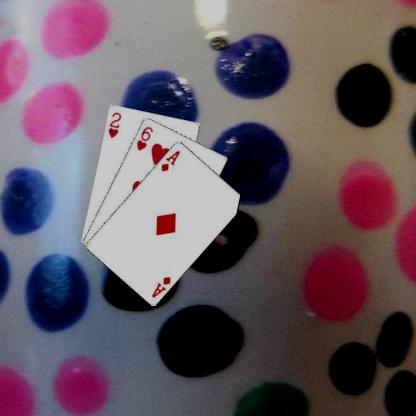2H: (106, 109, 122, 139)
6H: (134, 124, 154, 151)
AD: (158, 148, 181, 172), (149, 274, 171, 298)
